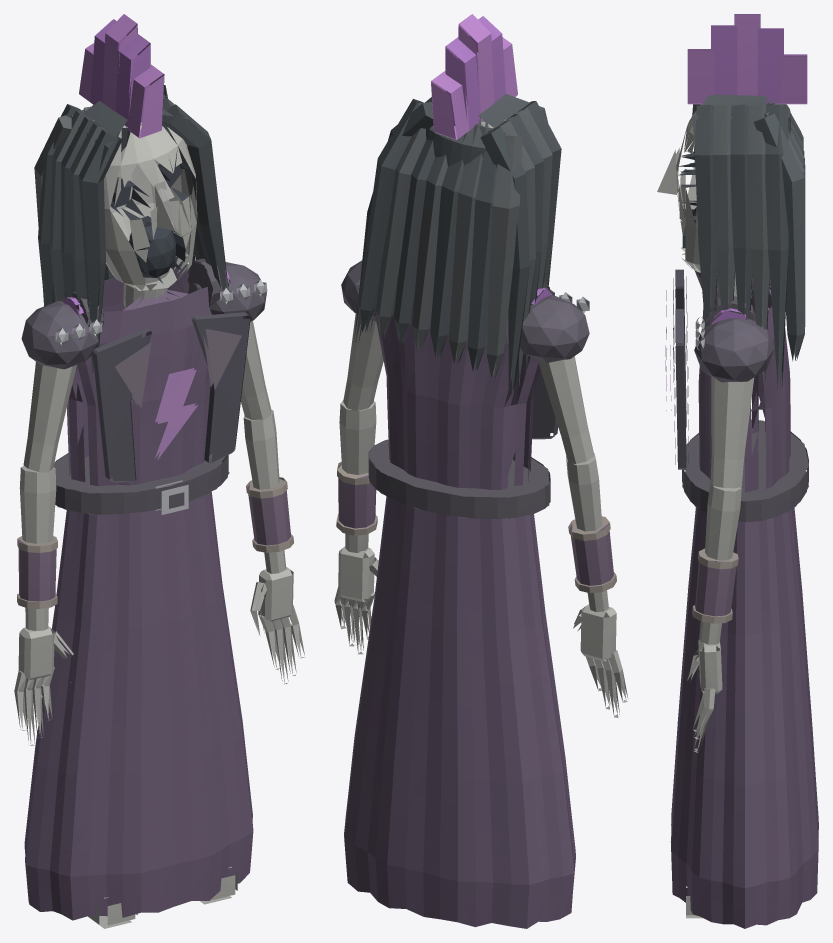
File: SlendrinaPunk.glb
3 views of the same model, side by side, from view 1: azimuth 30°, elevation 25°; view 2: azimuth 150°, elevation 25°; view 3: azimuth 270°, elevation 25° (orthographic).
Parts seen in each view (by area): view 1: Body, Head, ArmR, ArmL, LegR; view 2: Body, Head, ArmR, ArmL; view 3: Body, Head, ArmL.
Part boxes in pixels (x1,y1,x2,y2): Body: (24, 258, 253, 920); Head: (34, 14, 228, 373); ArmR: (14, 300, 102, 745); ArmL: (188, 262, 305, 684); LegR: (87, 897, 137, 928); Body: (344, 282, 575, 928); Head: (354, 14, 561, 399); ArmR: (519, 289, 628, 717); ArmL: (334, 260, 383, 654); Body: (665, 269, 818, 928); Head: (657, 14, 807, 387); ArmL: (687, 317, 774, 752).
Bounding box in the file's own units: 2.44 × 7.18 × 1.21.
